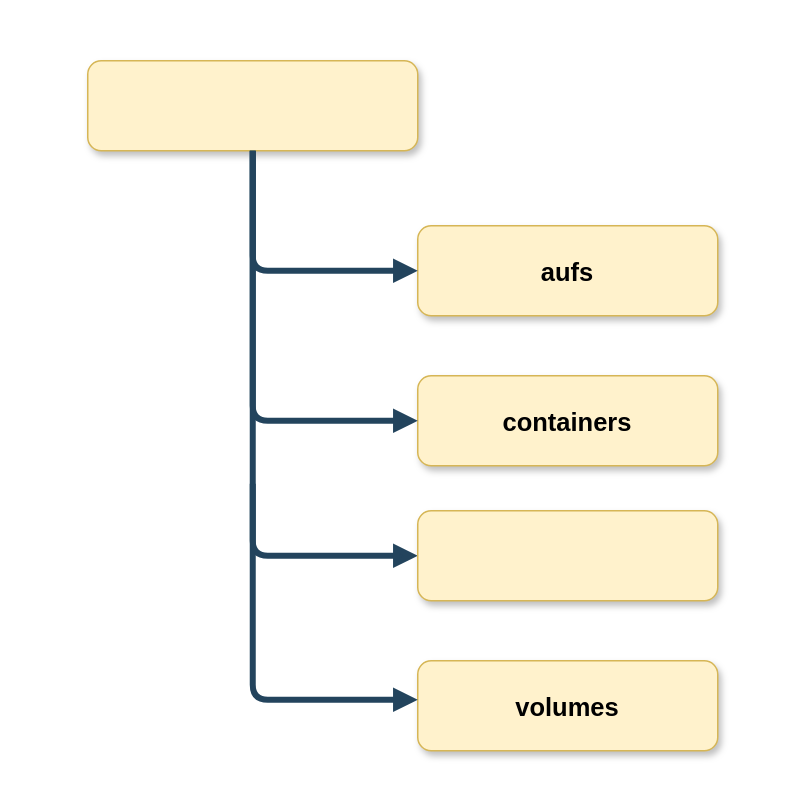
The diagram is 810 pixels wide and 810 high, and some of its shapes have lost their labels. The shapes that lost their labels are listed below. From the top down, each one's centre as x and y in pixels, then its label:
point (253, 107): /var/lib/docker
point (568, 557): Image
